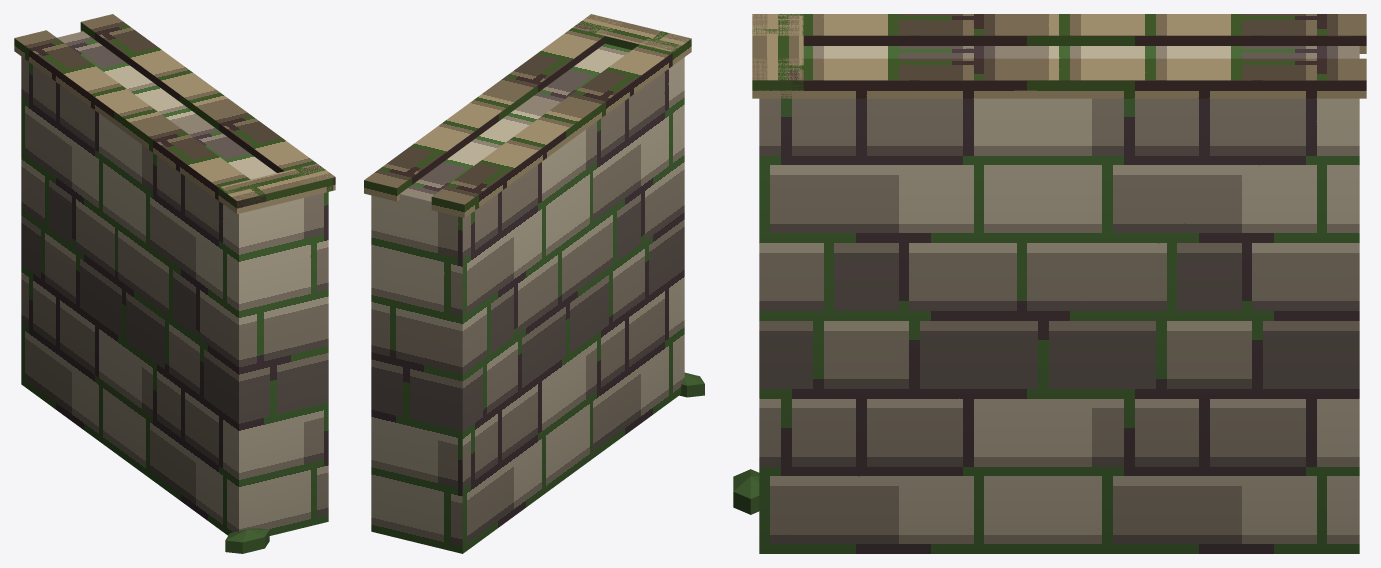
Rendered from scene_wall_e4a.glb.
The picture shows the model from 3 angles, left to right: view 1: azimuth 30°, elevation 25°; view 2: azimuth 150°, elevation 25°; view 3: azimuth 270°, elevation 25°; orthographic projection. The views are drawn at different scales.
Visible parts, largest first — view 1: scene_wall_e4a; view 2: scene_wall_e4a; view 3: scene_wall_e4a.
Boxes of the visible parts, x1,y1,x2,y2 form: scene_wall_e4a: (14,14,335,553); scene_wall_e4a: (364,14,704,553); scene_wall_e4a: (733,14,1366,553).
Bounding box in the file's own units: 1.24 × 3.76 × 4.43.
2 materials, 1 textured.
